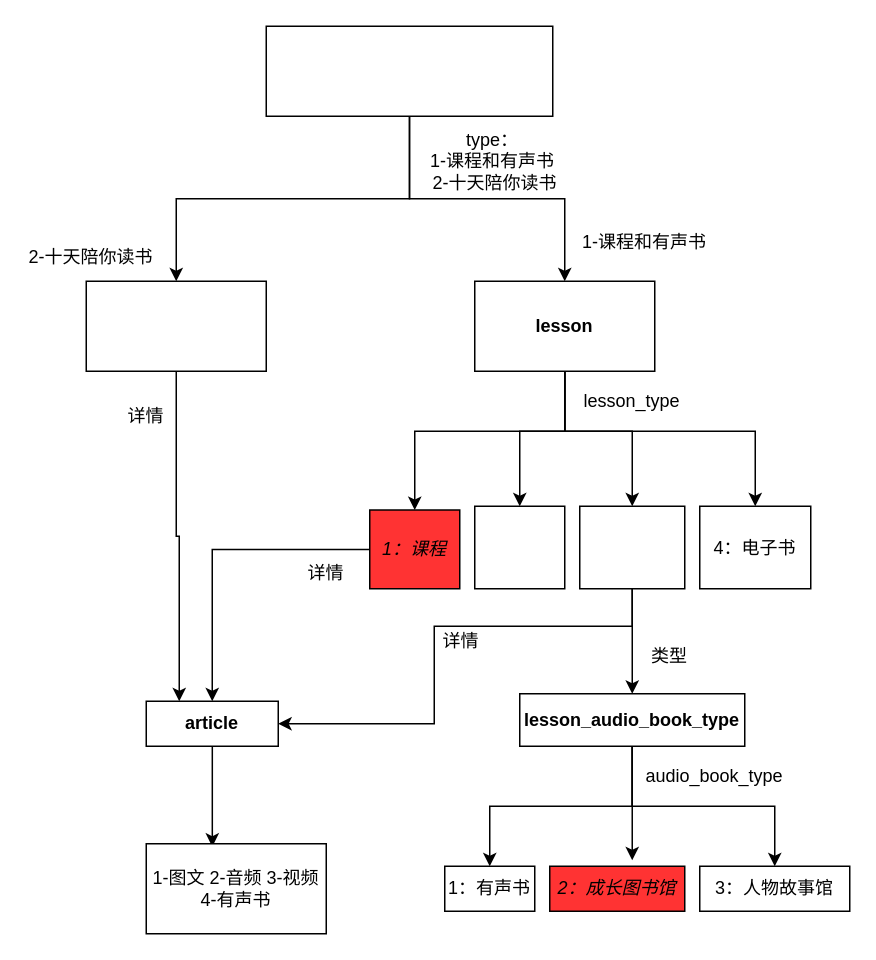
Some shapes in this 876 by 960 pixel diagram are drawn without their labels. Each missing label, with the box of its shape:
2：电台: (473, 505, 565, 589)
3：有声书: (578, 505, 685, 589)
ten_book: (85, 280, 266, 371)
user_lesson_detail_progress_0: (265, 25, 553, 116)
